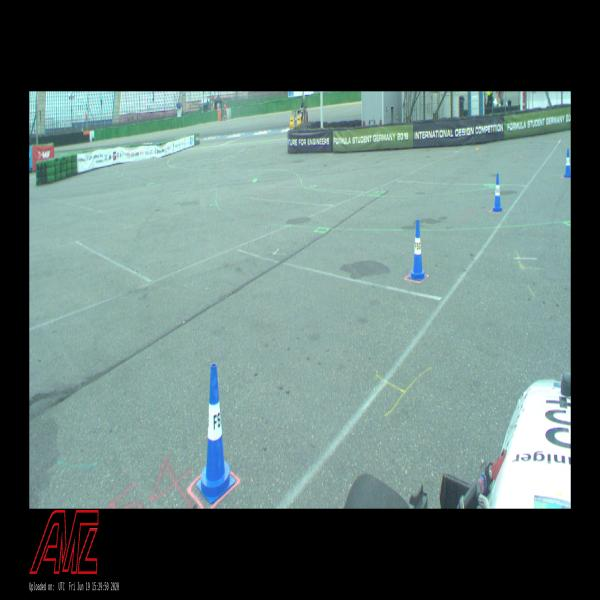blue_cone: (197, 364, 235, 504), (408, 220, 426, 281), (493, 174, 502, 211), (564, 149, 571, 177)
